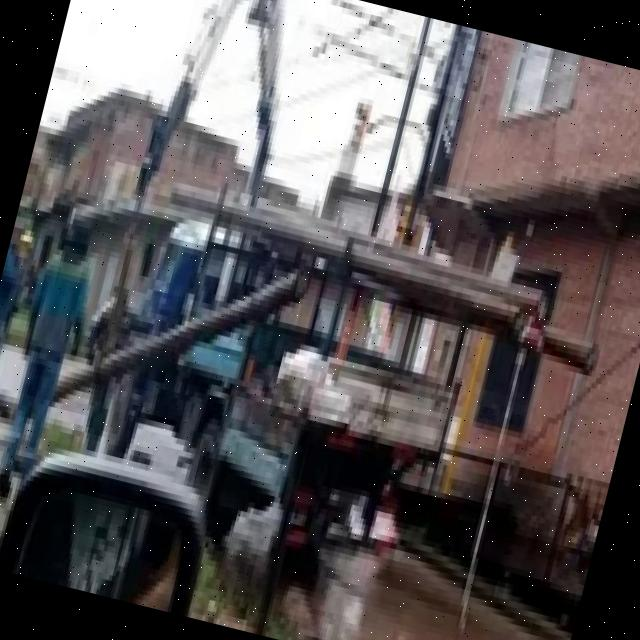Broken Pole: (0, 184, 601, 419)
